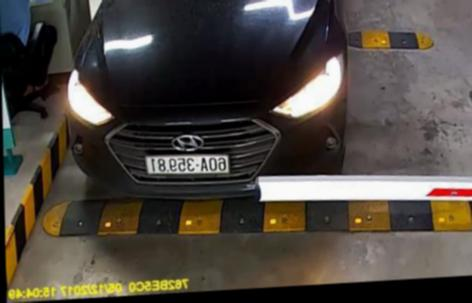License_Plate: (144, 147, 233, 179)
